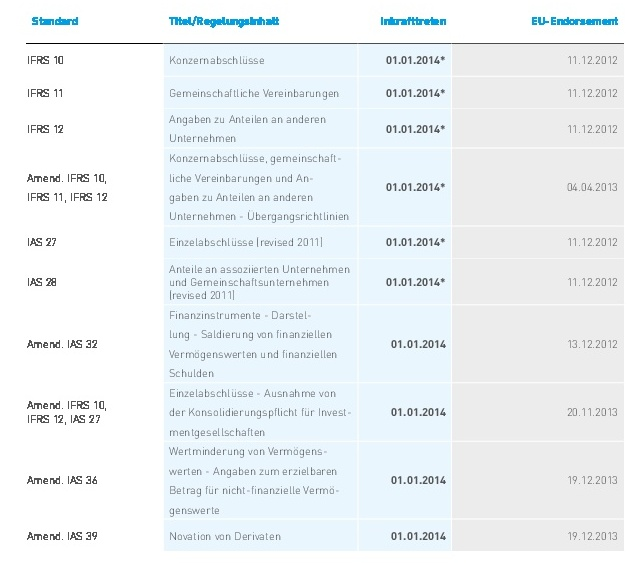table: (0, 0, 644, 563)
